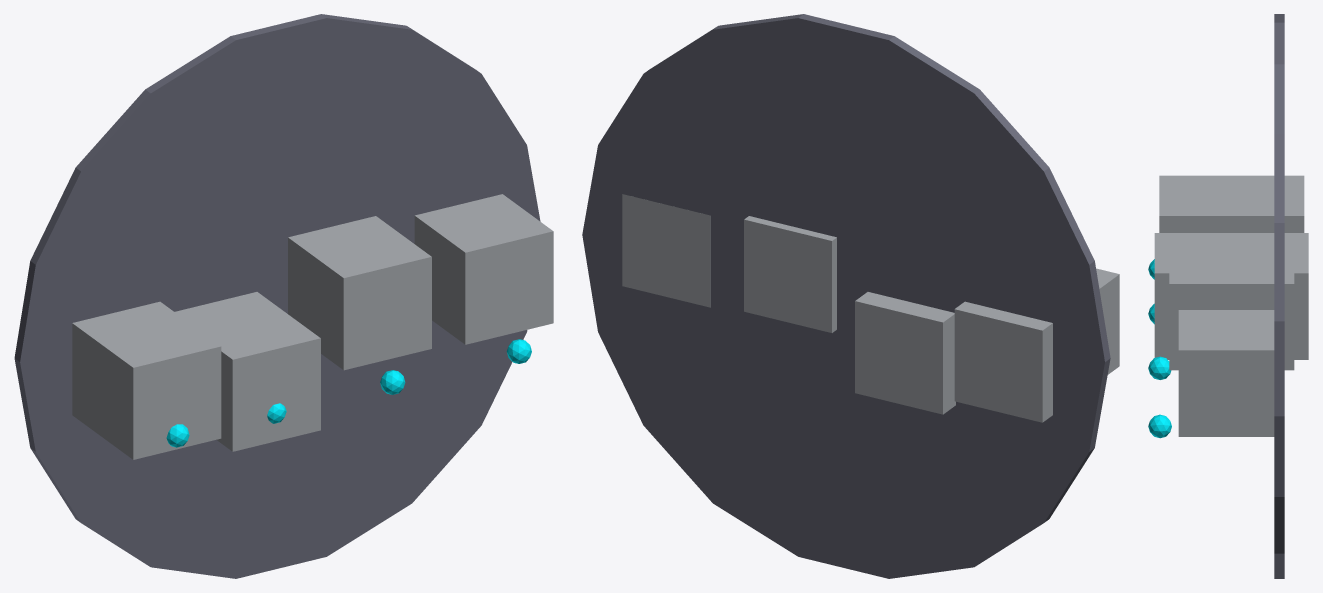
Rendered from 04_event_hazard_cluster.glb.
The picture shows the model from 3 angles, left to right: view 1: azimuth 30°, elevation 25°; view 2: azimuth 150°, elevation 25°; view 3: azimuth 270°, elevation 25°; orthographic projection. The views are drawn at different scales.
Parts seen in each view (by area): view 1: scatter_base, tech_crate_0, tech_crate_2, tech_crate_3, tech_crate_1; view 2: scatter_base, tech_crate_0, tech_crate_1, tech_crate_2, tech_crate_3; view 3: tech_crate_3, tech_crate_2, tech_crate_0, scatter_base, tech_crate_1, status_light_3, status_light_2.
Part boxes in pixels (x1,y1,x2,y2): scatter_base: [14, 14, 540, 578]; tech_crate_0: [72, 301, 221, 459]; tech_crate_2: [288, 216, 431, 370]; tech_crate_3: [414, 194, 553, 344]; tech_crate_1: [175, 292, 320, 451]; scatter_base: [582, 14, 1110, 578]; tech_crate_0: [954, 268, 1119, 422]; tech_crate_1: [855, 292, 955, 414]; tech_crate_2: [744, 216, 836, 332]; tech_crate_3: [622, 194, 710, 307]; tech_crate_3: [1178, 310, 1274, 436]; tech_crate_2: [1169, 243, 1294, 370]; tech_crate_0: [1159, 175, 1304, 232]; scatter_base: [1274, 14, 1284, 578]; tech_crate_1: [1154, 233, 1308, 359]; status_light_3: [1148, 414, 1171, 438]; status_light_2: [1148, 356, 1171, 379].
Size of the model in its own units: 1.9 by 1.87 by 0.5379.
